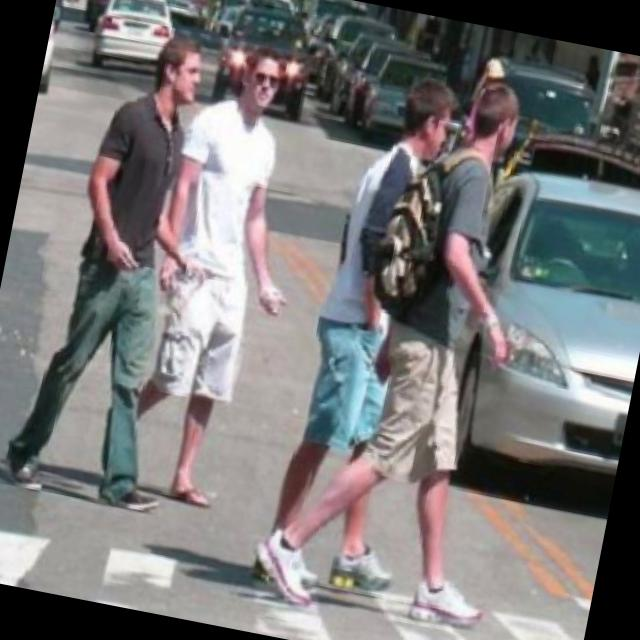Person: (247, 50, 582, 636), (260, 64, 490, 604), (0, 18, 244, 512), (114, 38, 332, 520)
